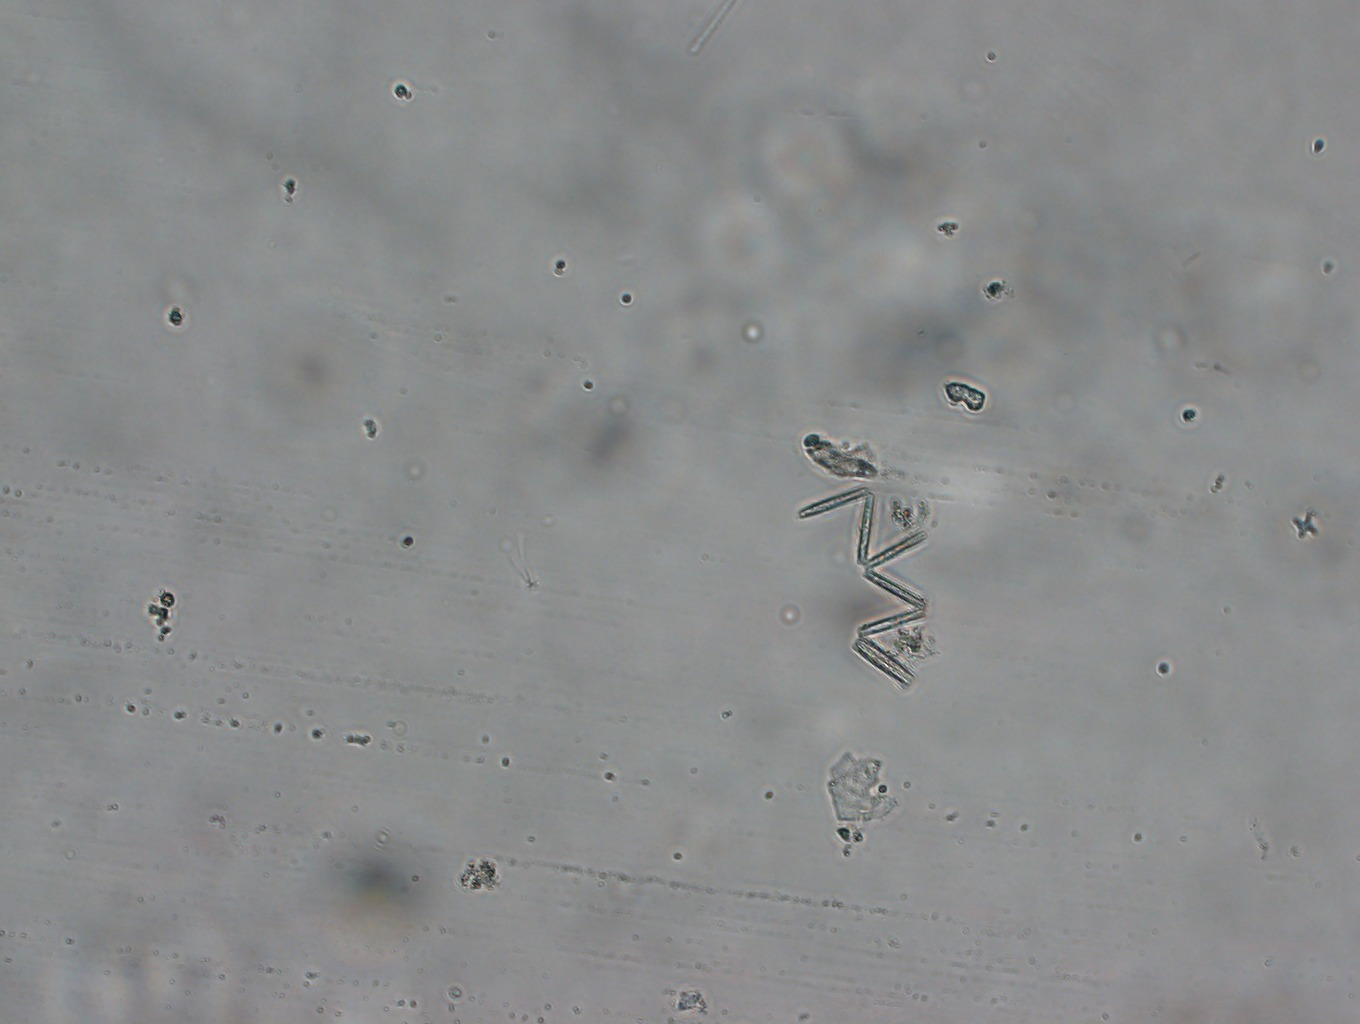thalassionema nitzschioides: (794, 484, 939, 706)
